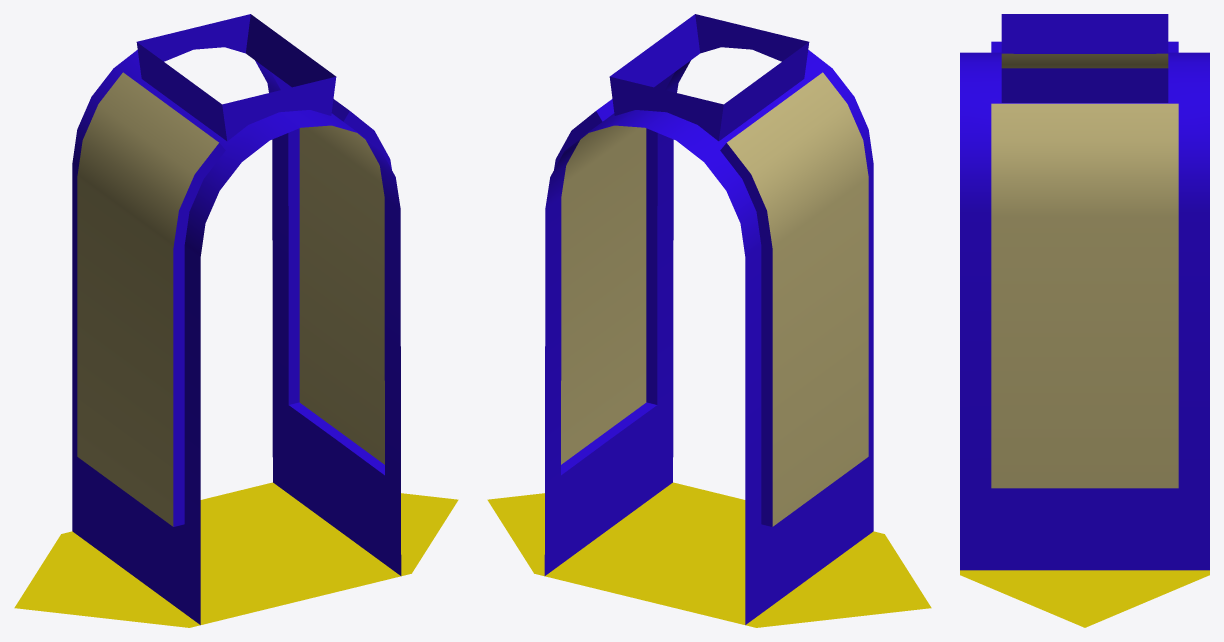
Rendered from StraightV2.fbx.
3 renders of one model, left to right at view 1: azimuth 30°, elevation 25°; view 2: azimuth 150°, elevation 25°; view 3: azimuth 270°, elevation 25°, orthographic. The views are drawn at different scales.
Parts seen in each view (by area): view 1: StraightV2; view 2: StraightV2; view 3: StraightV2.
Boxes of the visible parts, <box> form: StraightV2: <box>14,14,458,627</box>; StraightV2: <box>487,14,931,627</box>; StraightV2: <box>960,14,1209,627</box>.
Size of the model in its own units: 240 by 255 by 120.
